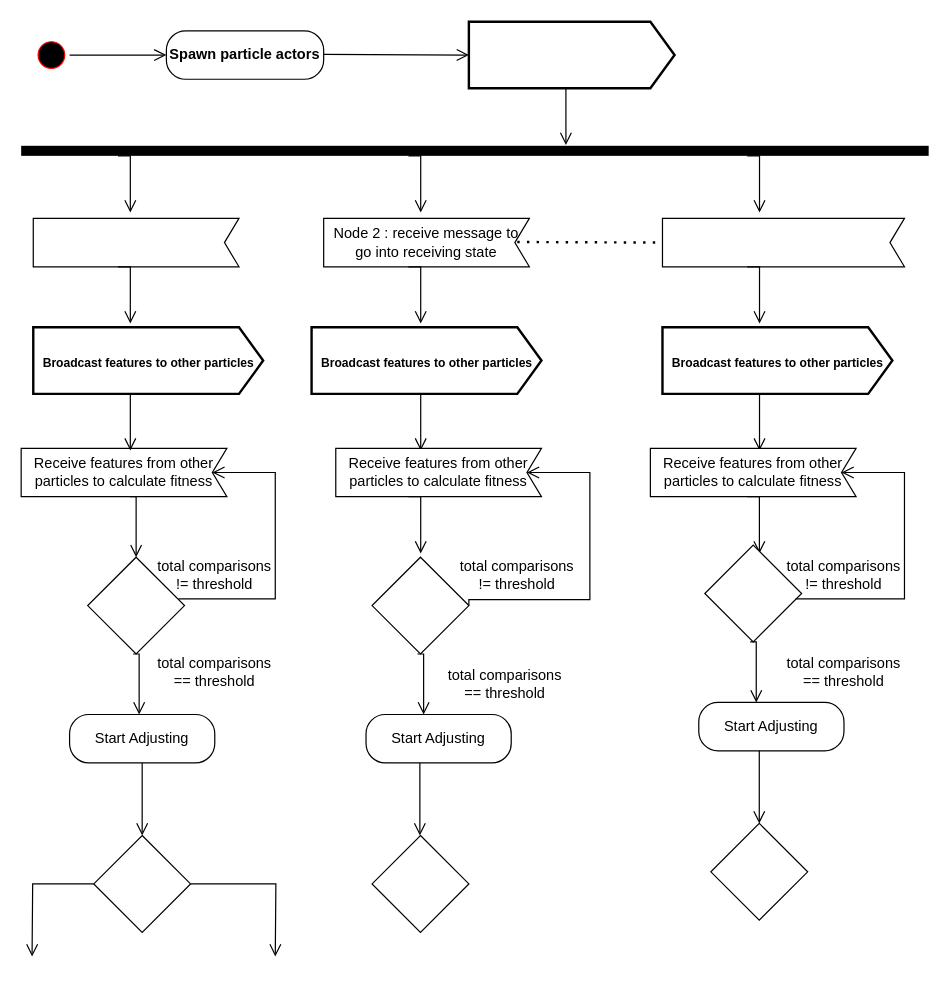
This 950x990 diagram has some shape labels left out. The centre of each missing label's shape, as x and y in pixels:
Node (n) : receive message to go into receiving state: the point at 782,242
Node 1 : receive message to go into receiving state: the point at 135,242
send message to particles to go into receiving state: the point at 571,54
